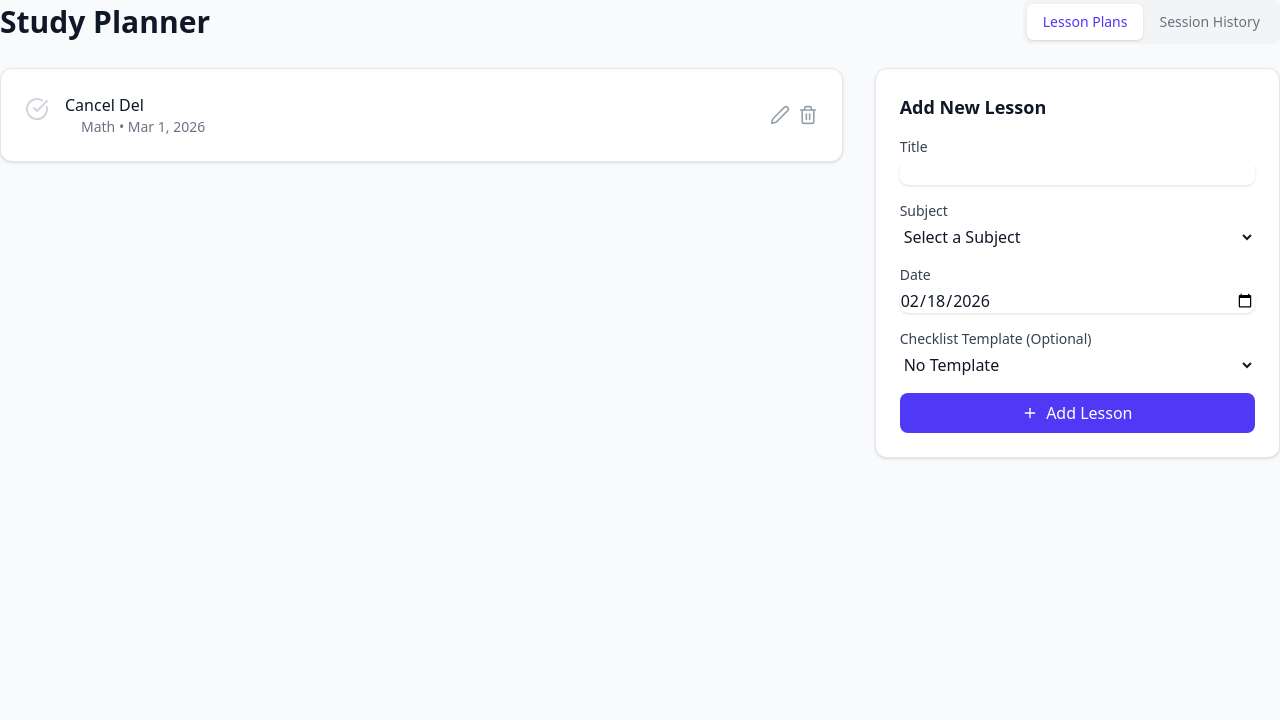
Scenario: Planner › opens delete modal and cancels
Expected: the heading "Cancel Del" is shown, [65,94,144,116]
Click the 5th button at (808, 115), box [798,105,818,125]
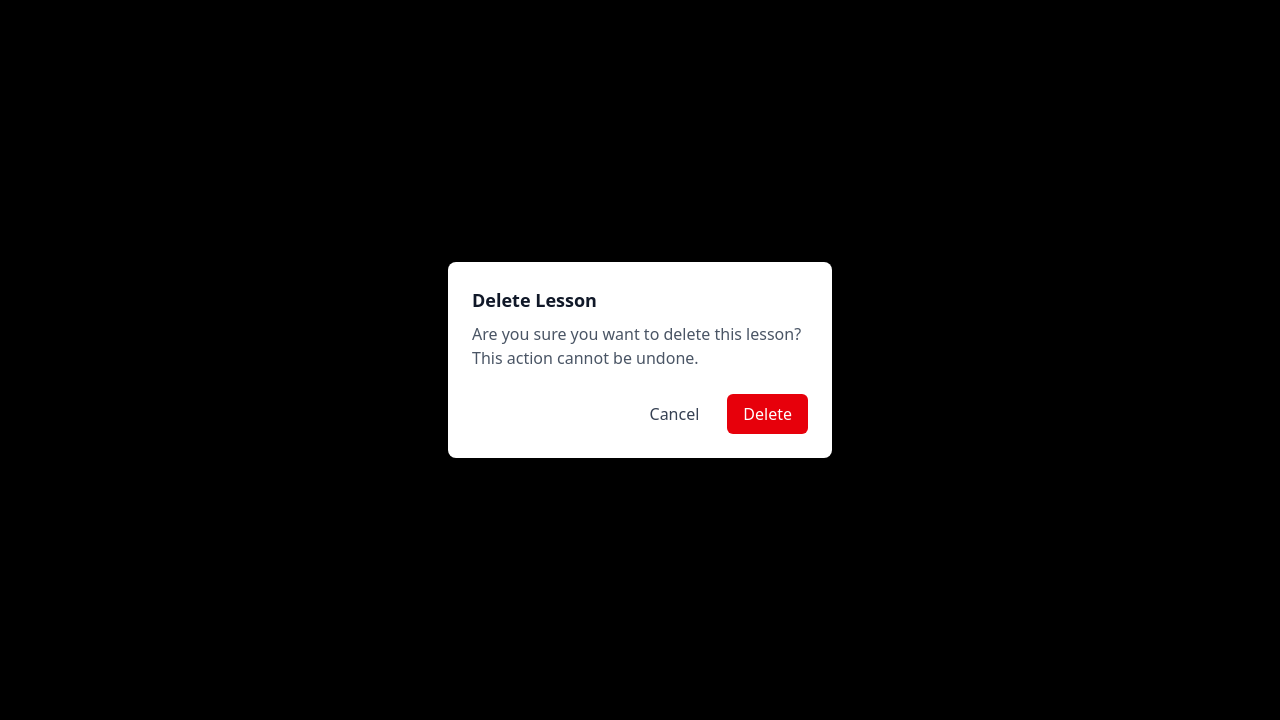
Expected: the heading "Delete Lesson" is shown, [472,288,597,312]
Click the button "Cancel" at (674, 414), box [634,394,715,434]
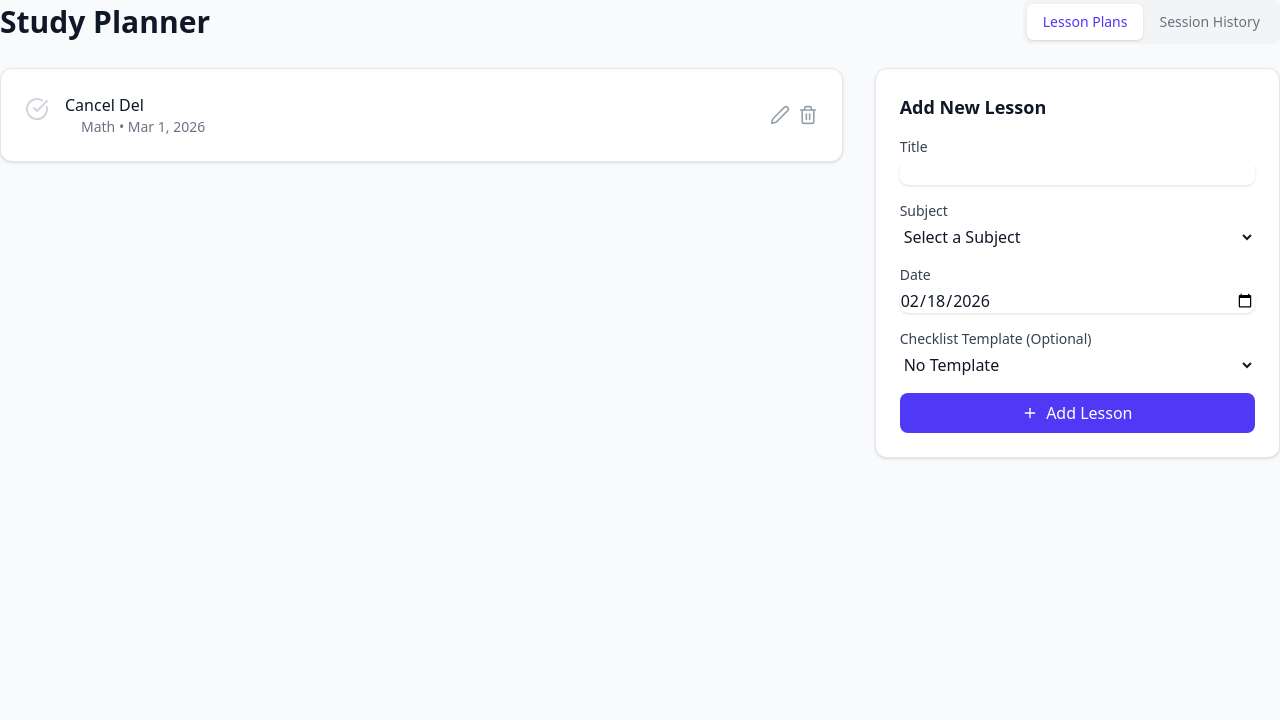
Expected: the heading "Delete Lesson" is gone
